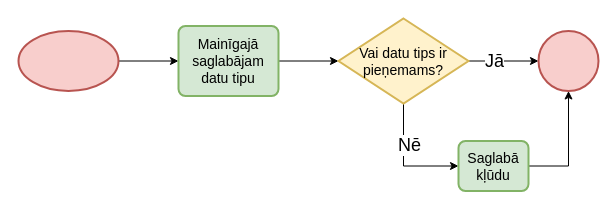
Some shapes in this 616 by 209 pixel diagram are drawn without their labels. Here are the shapes that lost their labels. From the top down, the centre of each, then its label:
At [68,61]: "Sākums".
At [568,61]: "Beigas".
